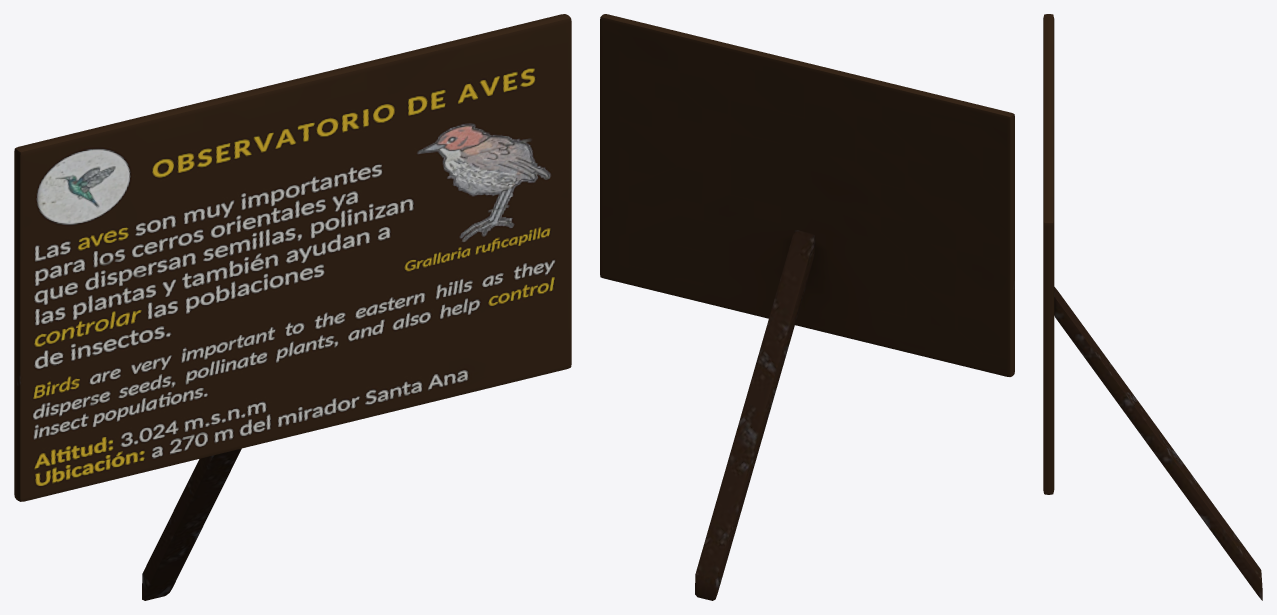
File: letrero-observatorio-de-aves.glb
3 views of the same model, side by side, from view 1: azimuth 30°, elevation 25°; view 2: azimuth 150°, elevation 25°; view 3: azimuth 270°, elevation 25° (orthographic). The views are drawn at different scales.
Parts seen in each view (by area): view 1: Mesh_0; view 2: Mesh_0; view 3: Mesh_0.
Part boxes in pixels (<box>): Mesh_0: <box>14,14,571,600</box>; Mesh_0: <box>600,14,1014,600</box>; Mesh_0: <box>1043,14,1262,600</box>.
Bounding box in the file's own units: 8.9 × 9.49 × 3.94.
Materials: 2 (2 with a texture image).
